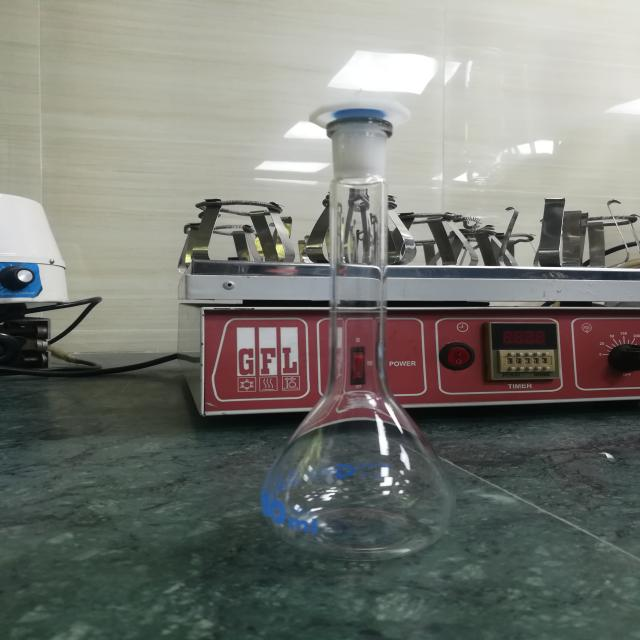Volumetric_Flask: (215, 70, 528, 573)
